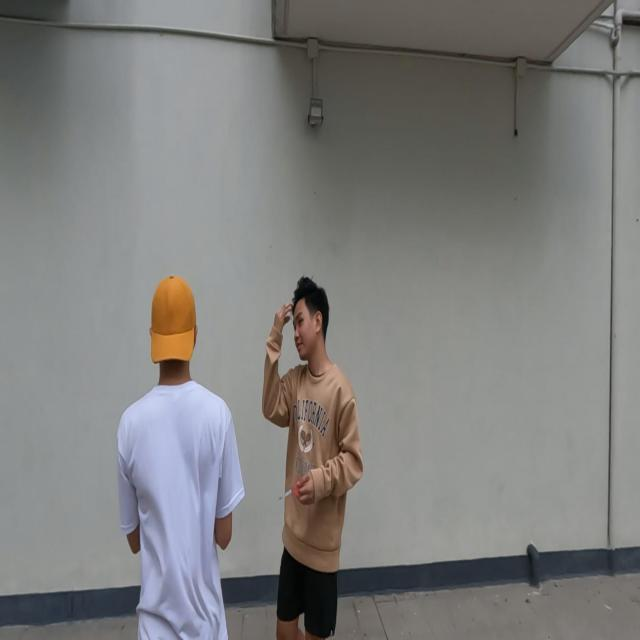scissor: (279, 480, 300, 500)
